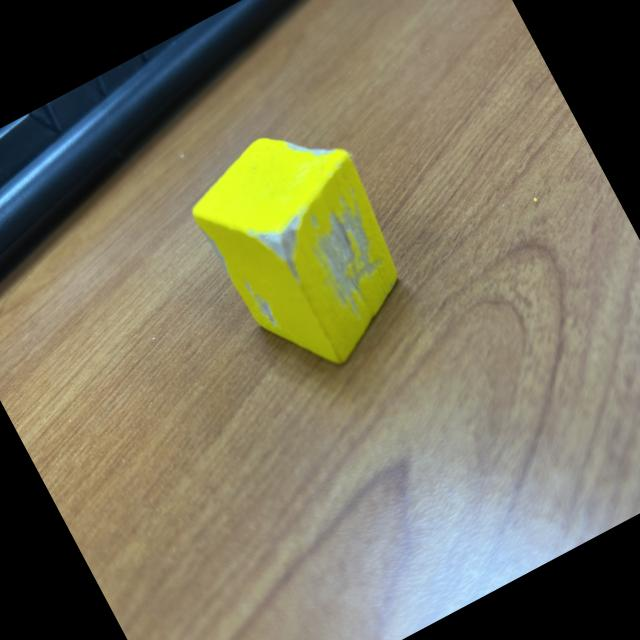broken: (174, 102, 436, 394)
